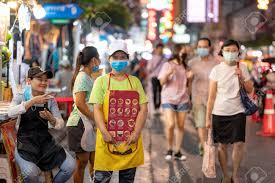no-mask: (25, 65, 53, 95)
with-mask: (105, 46, 133, 78), (193, 33, 215, 61), (220, 39, 241, 67), (169, 42, 189, 65)
